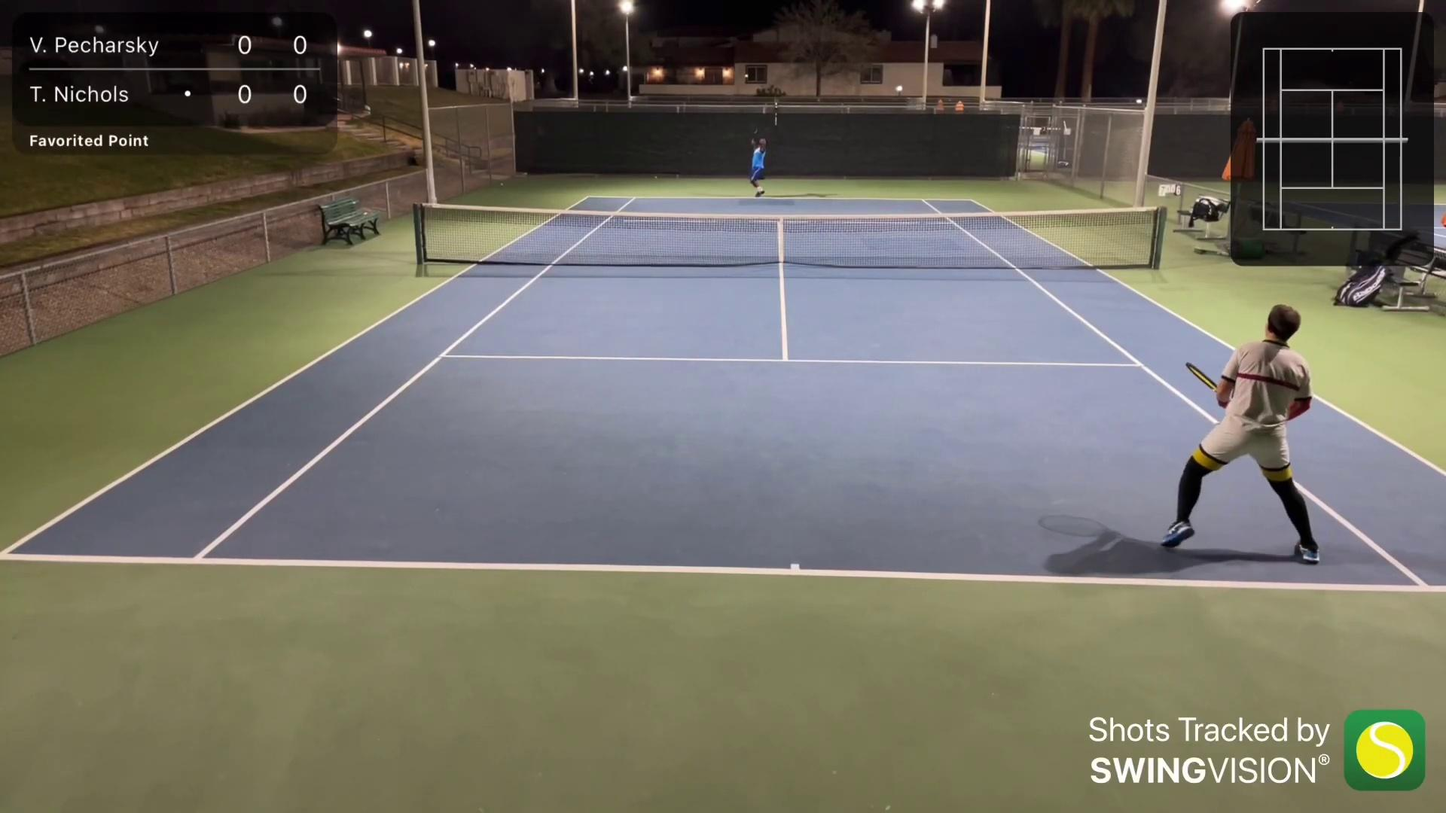ball: (745, 73, 749, 78)
